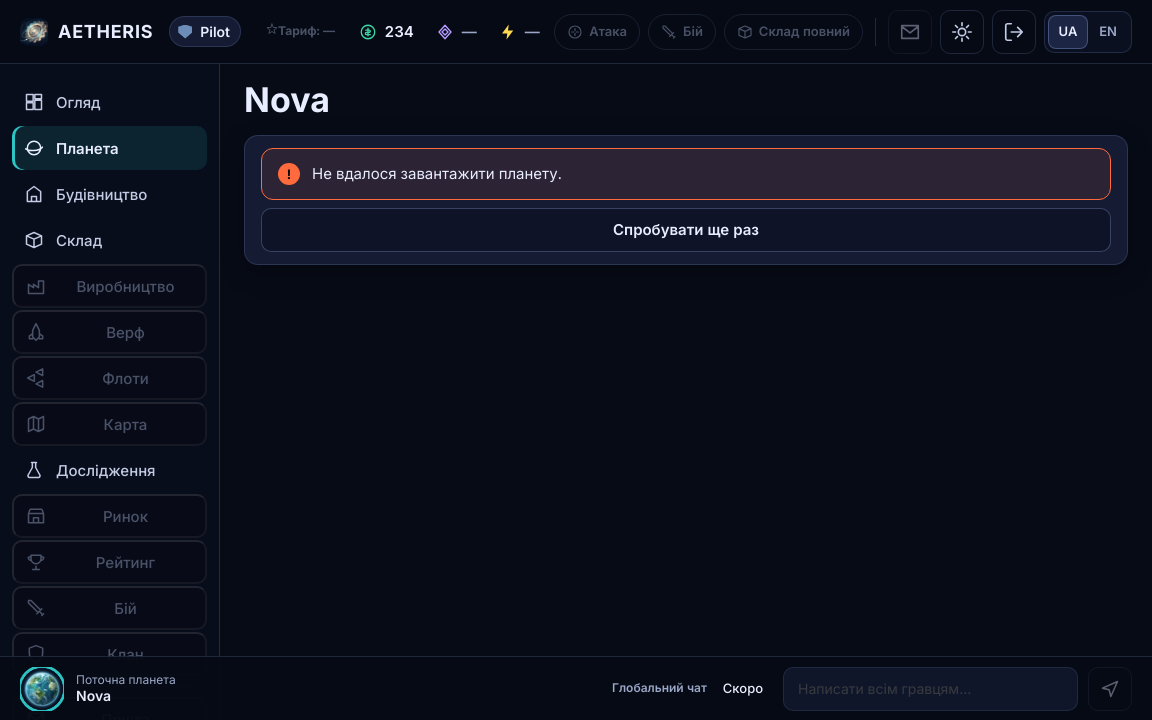
Test case: PlanetPage: the screen of the planet › shows the error and reads the body again on retry
Expected: the text "Не вдалося завантажити планету." is shown, x1=312 y1=163 x2=562 y2=184
Click the button "Спробувати ще раз": (686,230) x1=261 y1=208 x2=1111 y2=252
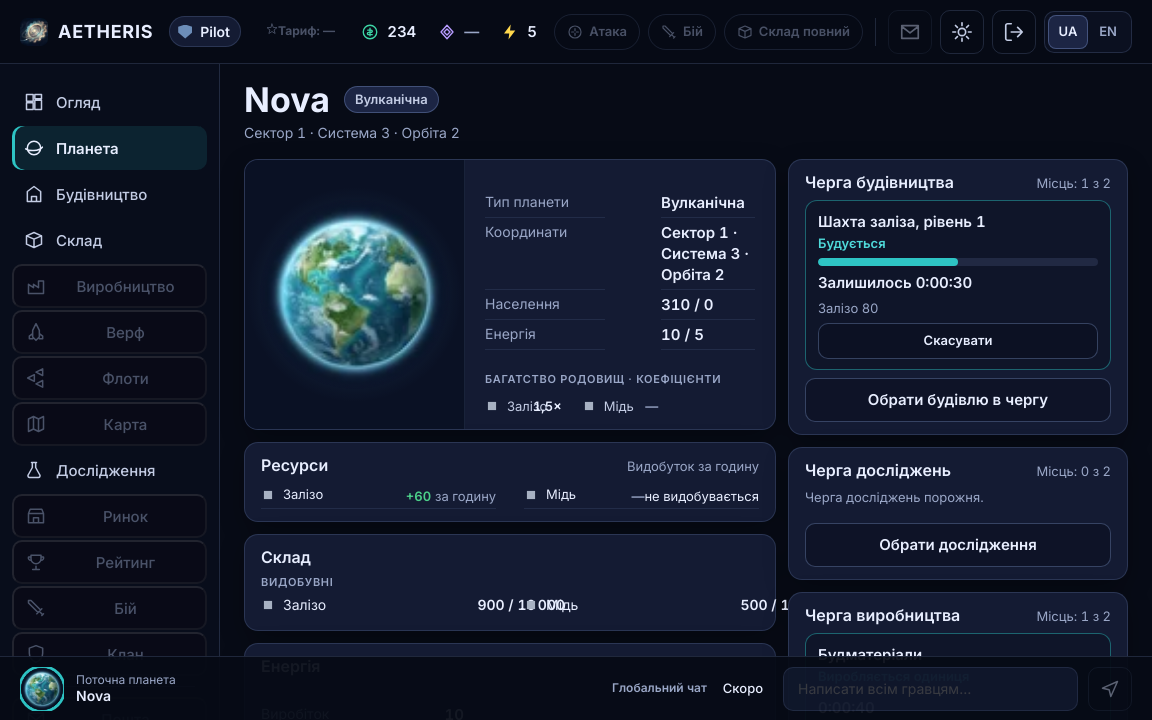
Now the element "Черга будівництва" is shown, box x1=788 y1=159 x2=1128 y2=435
